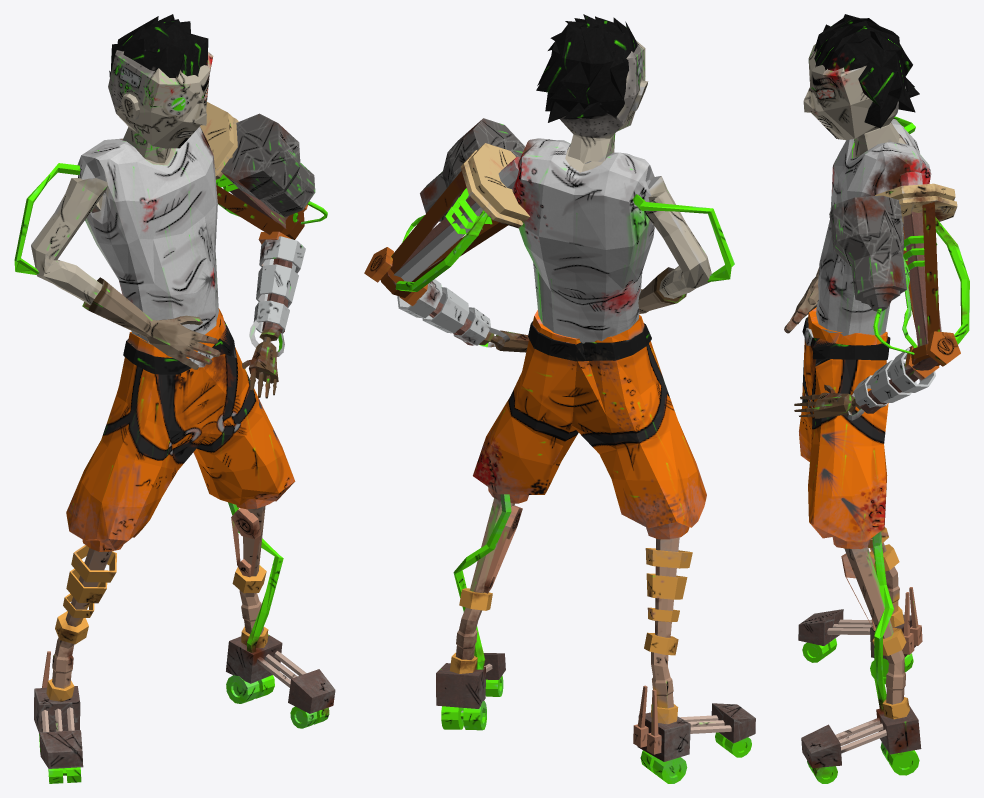
The model's file is CyborgFINALAnimation_000063.obj.
3 renders of one model, left to right at view 1: azimuth 30°, elevation 25°; view 2: azimuth 150°, elevation 25°; view 3: azimuth 270°, elevation 25°, orthographic. The views are drawn at different scales.
Parts seen in each view (by area): view 1: CyborgMesh_Cube.002; view 2: CyborgMesh_Cube.002; view 3: CyborgMesh_Cube.002.
Part boxes in pixels (left/top/right/bottom): CyborgMesh_Cube.002: left=14, top=14, right=335, bottom=783; CyborgMesh_Cube.002: left=364, top=14, right=755, bottom=783; CyborgMesh_Cube.002: left=784, top=14, right=969, bottom=783.
Bounding box in the file's own units: 4.55 × 9.6 × 2.31.
